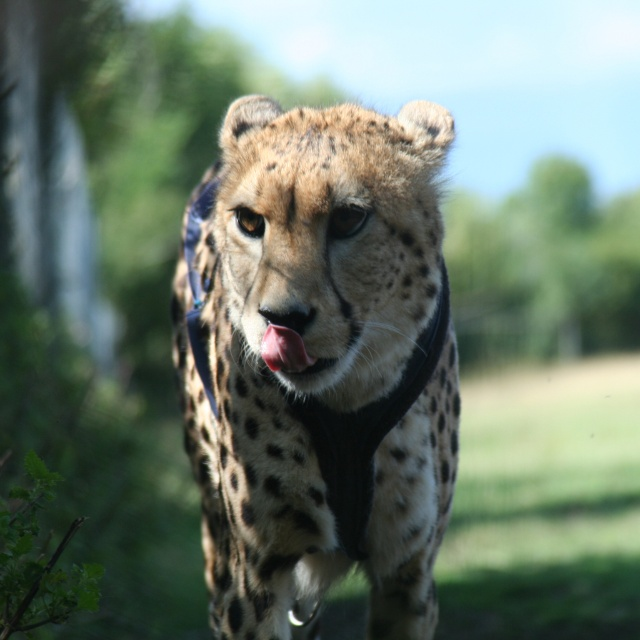Jaguar: (168, 93, 465, 640)
